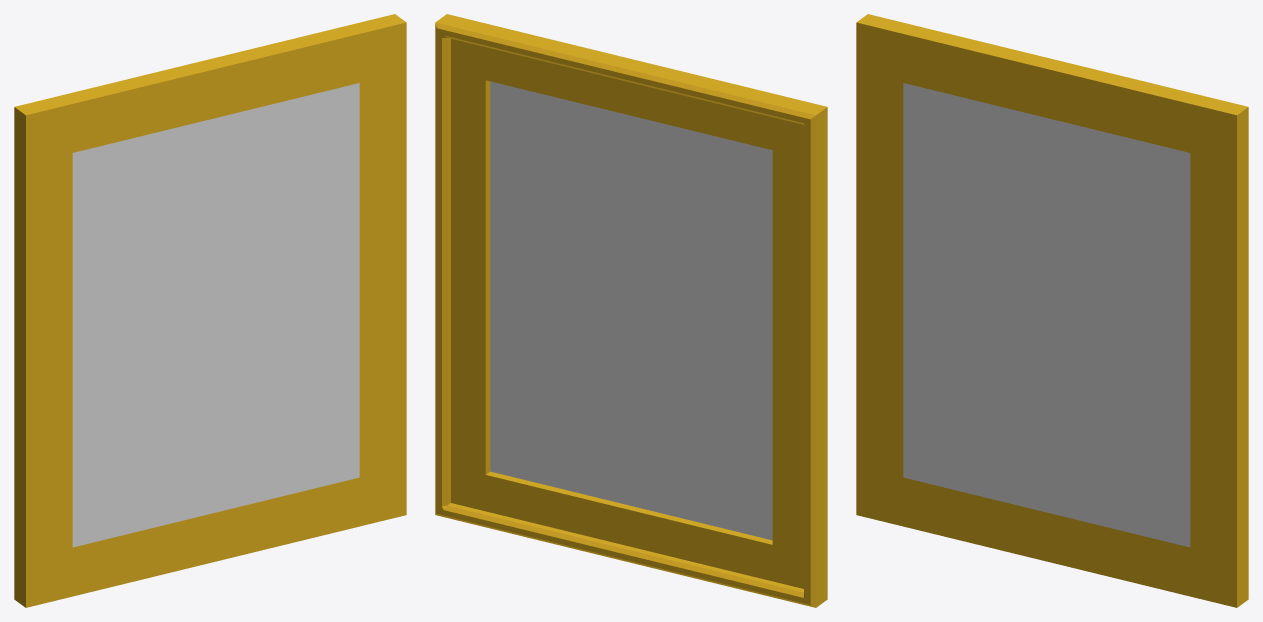
The model's file is Painting_16x20.fbx.
3 views of the same model, side by side, from view 1: azimuth 30°, elevation 25°; view 2: azimuth 150°, elevation 25°; view 3: azimuth 330°, elevation 25° (orthographic).
Parts seen in each view (by area): view 1: Painting_16x20; view 2: Painting_16x20; view 3: Painting_16x20.
Boxes of the visible parts, box(x1,y1,x2,y2) form: Painting_16x20: box(14, 14, 406, 607); Painting_16x20: box(435, 14, 827, 607); Painting_16x20: box(856, 14, 1248, 607).
Size of the model in its own units: 40.64 by 50.25 by 2.5.
